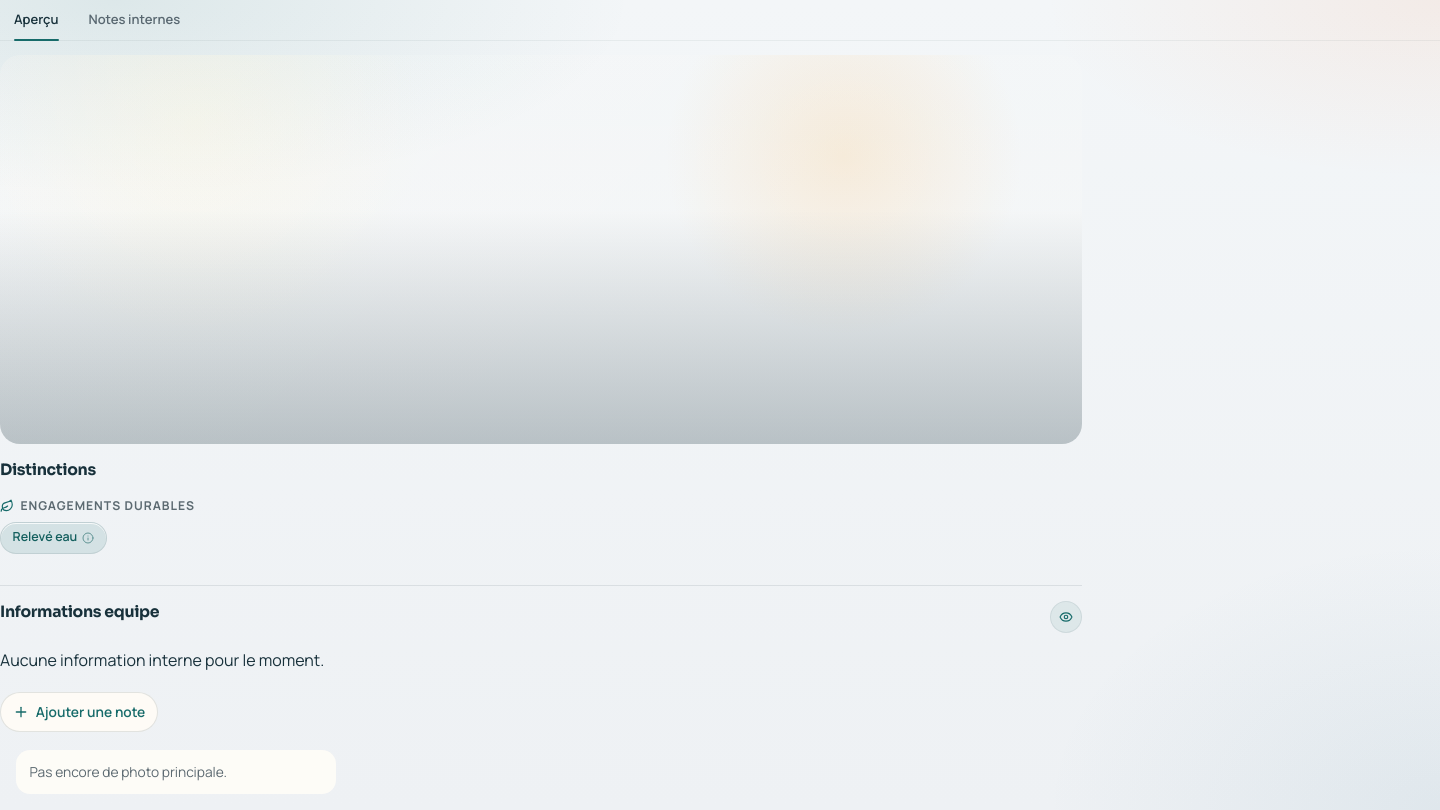
it: ObjectDetailView › renders sustainability actions as compact chips and reveals cleaned prose in a modal (no raw tokens inline)
The image size is (1440, 810).
// The action is a compact chip-button (detail behind a modal), not an always-open card.
Click the button "Relevé eau": (53, 538) [0,522,107,554]
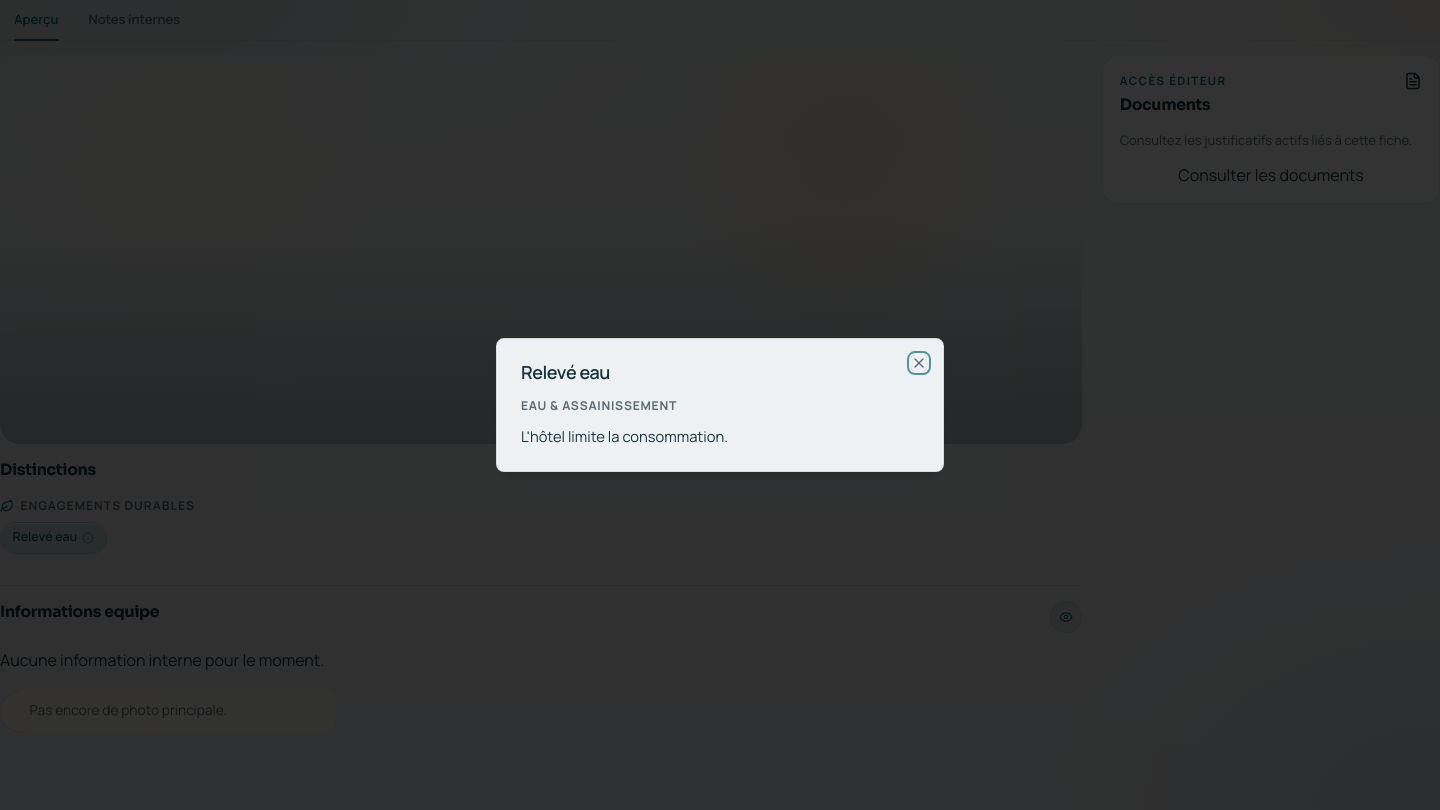
expect the text "L'hôtel limite la consommation." is shown: met, box [521,426,728,446]
